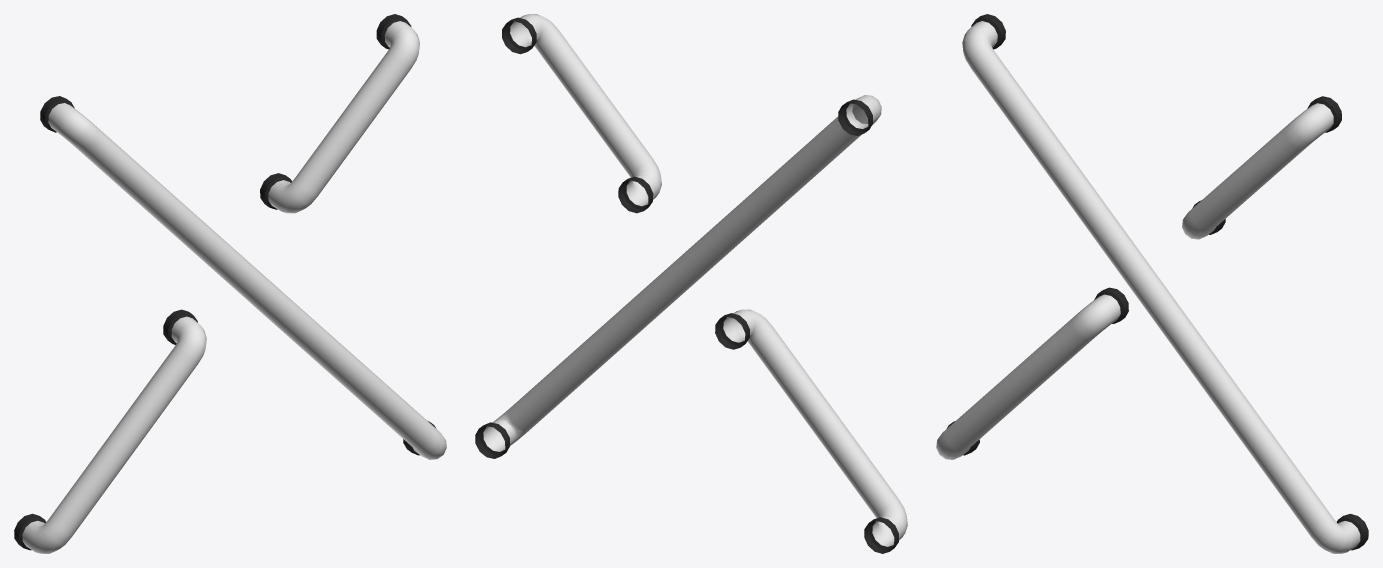
Rendered from LettersNeon01_X.FBX.
3 views of the same model, side by side, from view 1: azimuth 30°, elevation 25°; view 2: azimuth 150°, elevation 25°; view 3: azimuth 330°, elevation 25° (orthographic).
Parts seen in each view (by area): view 1: LettersNeon01_X; view 2: LettersNeon01_X; view 3: LettersNeon01_X.
Boxes of the visible parts, x1,y1,x2,y2 form: LettersNeon01_X: (14, 14, 446, 553); LettersNeon01_X: (475, 14, 907, 553); LettersNeon01_X: (936, 14, 1368, 553).
Size of what is drawn, in the model's own units: 0.4917 by 0.4966 by 0.054.
